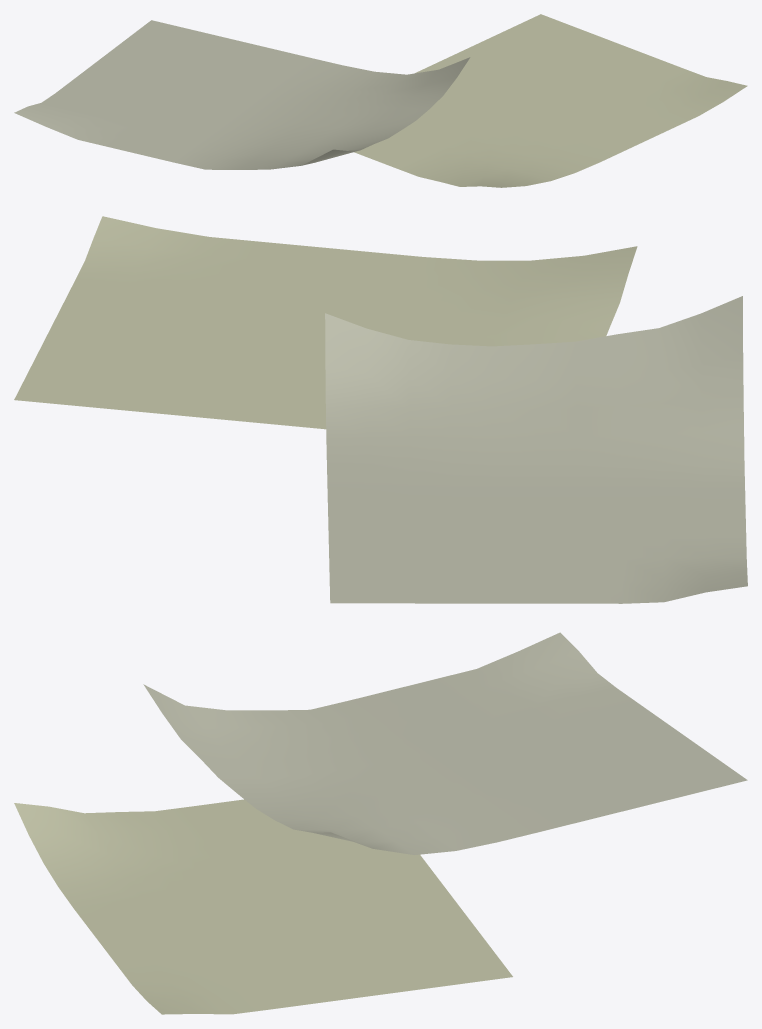
The model's file is Scattered Papers 1.fbx.
3 views of the same model, one above another, from view 1: azimuth 30°, elevation 25°; view 2: azimuth 150°, elevation 25°; view 3: azimuth 270°, elevation 25° (orthographic). The views are drawn at different scales.
Visible parts, largest first — view 1: pPlane26; view 2: pPlane26; view 3: pPlane26.
Part boxes in pixels (left/top/right/bottom): pPlane26: left=14, top=14, right=747, bottom=187; pPlane26: left=14, top=216, right=747, bottom=603; pPlane26: left=14, top=632, right=747, bottom=1014.
Bounding box in the file's own units: 2.41 × 0.2085 × 1.99.
